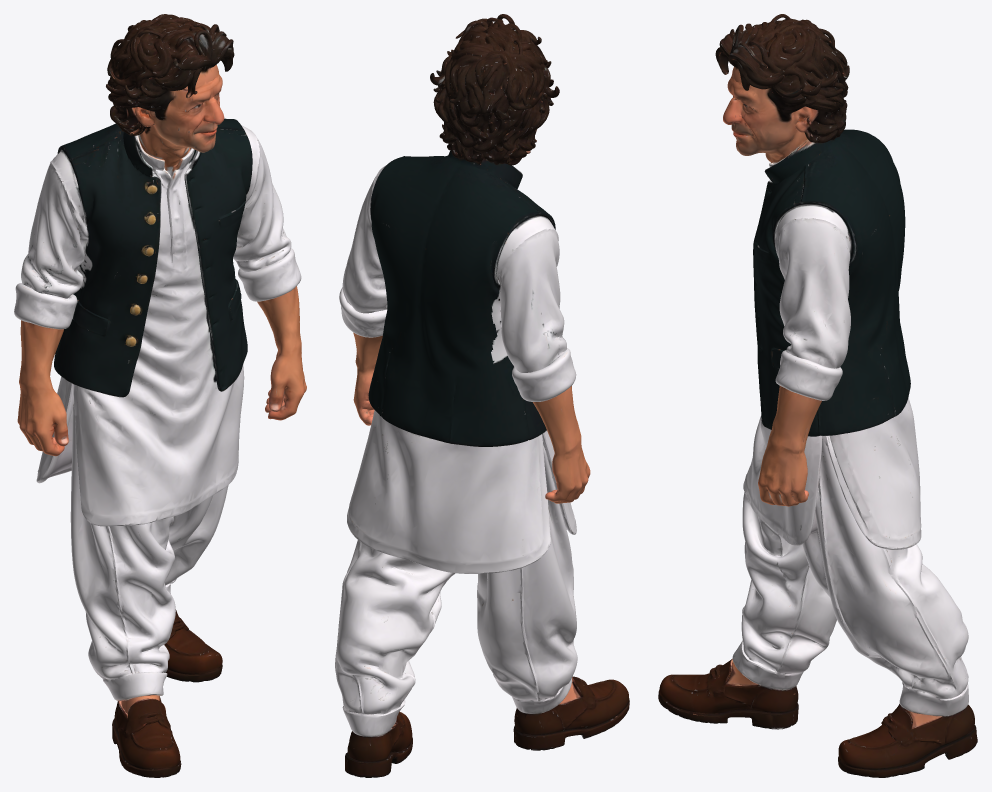
Rendered from imran.glb.
3 views of the same model, side by side, from view 1: azimuth 30°, elevation 25°; view 2: azimuth 150°, elevation 25°; view 3: azimuth 270°, elevation 25° (orthographic). The views are drawn at different scales.
Visible parts, largest first — view 1: Object_01; view 2: Object_01; view 3: Object_01.
Boxes of the visible parts, x1,y1,x2,y2 form: Object_01: [14, 14, 306, 777]; Object_01: [335, 14, 629, 777]; Object_01: [658, 14, 977, 777].
Bounding box in the file's own units: 0.724 × 1.91 × 0.7643.
Materials: 1 (1 with a texture image).
